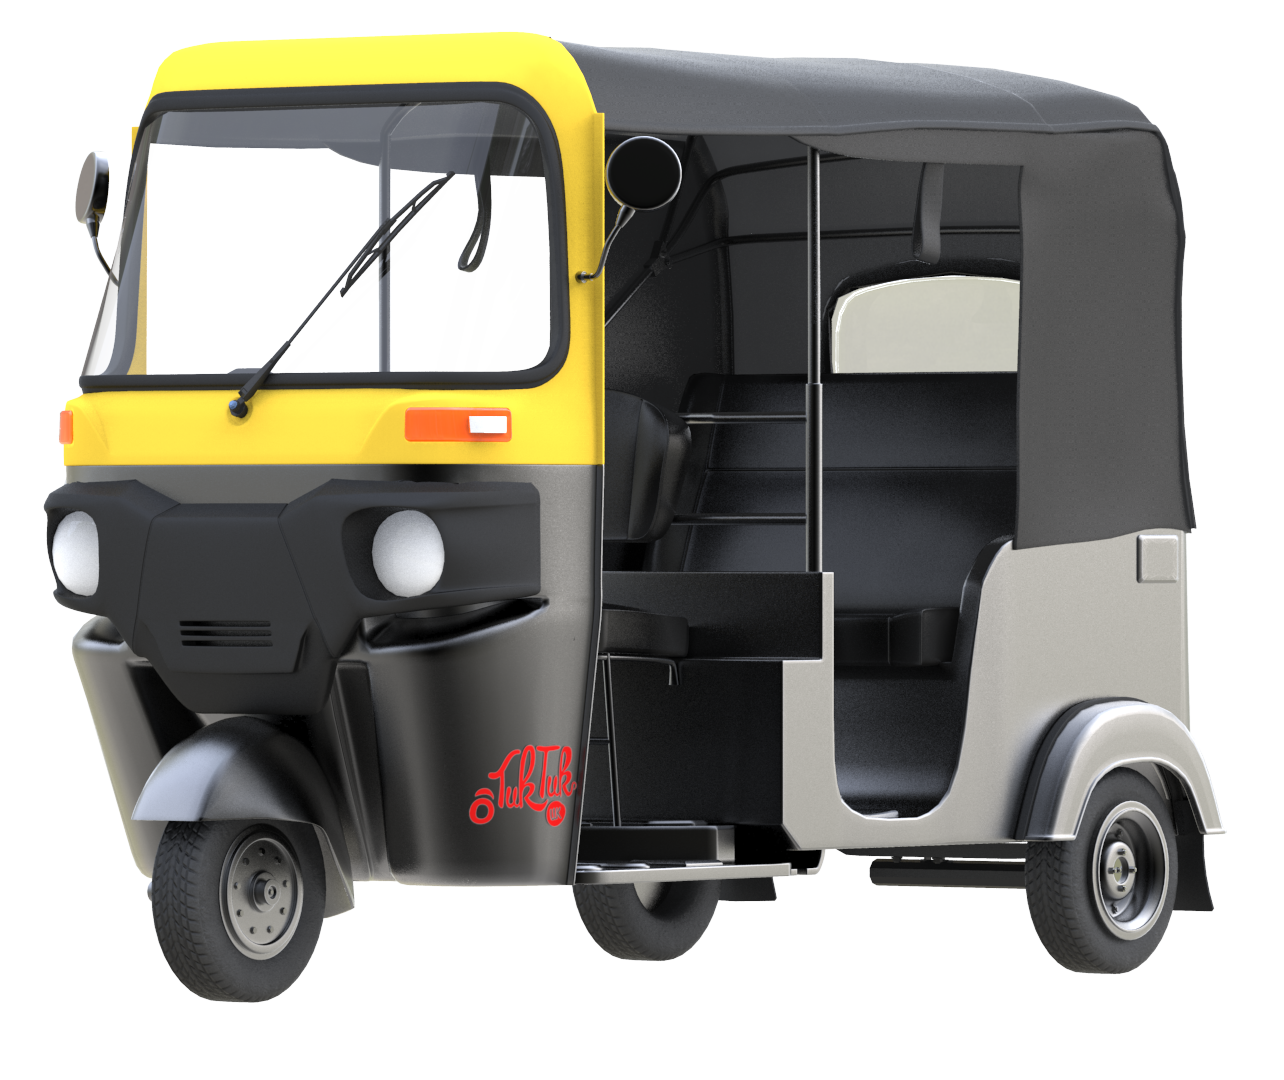auto: (49, 40, 1224, 1008)
